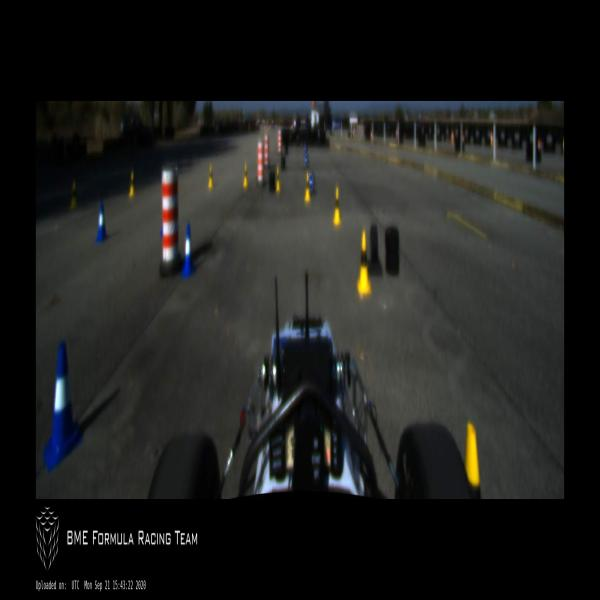blue_cone: (43, 341, 82, 471), (181, 224, 195, 278), (95, 202, 108, 244)
yellow_cone: (464, 420, 481, 498), (356, 231, 372, 297), (333, 186, 342, 226), (70, 182, 78, 210), (128, 171, 136, 198), (304, 173, 311, 202), (242, 163, 248, 189), (208, 166, 214, 189), (276, 168, 280, 194)
